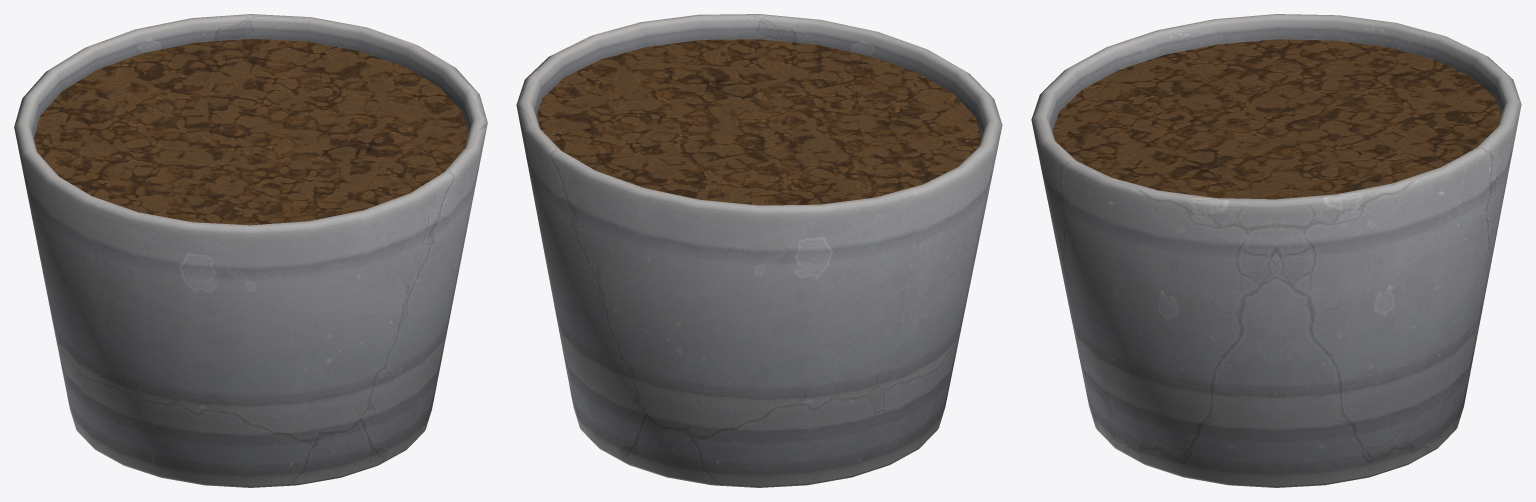
Rendered from StreetPlanter04_2.FBX.
3 renders of one model, left to right at view 1: azimuth 30°, elevation 25°; view 2: azimuth 150°, elevation 25°; view 3: azimuth 270°, elevation 25°, orthographic. The views are drawn at different scales.
Visible parts, largest first — view 1: StreetPlanter04_2; view 2: StreetPlanter04_2; view 3: StreetPlanter04_2.
Part boxes in pixels (x1,y1,x2,y2): StreetPlanter04_2: (14,14,487,487); StreetPlanter04_2: (516,14,1002,487); StreetPlanter04_2: (1031,14,1521,487).
Size of what is drawn, in the model's own units: 0.6538 by 0.4602 by 0.6537.
